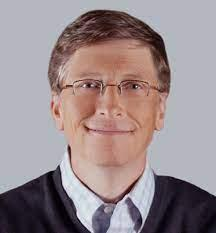Persons: (38, 4, 184, 179)
